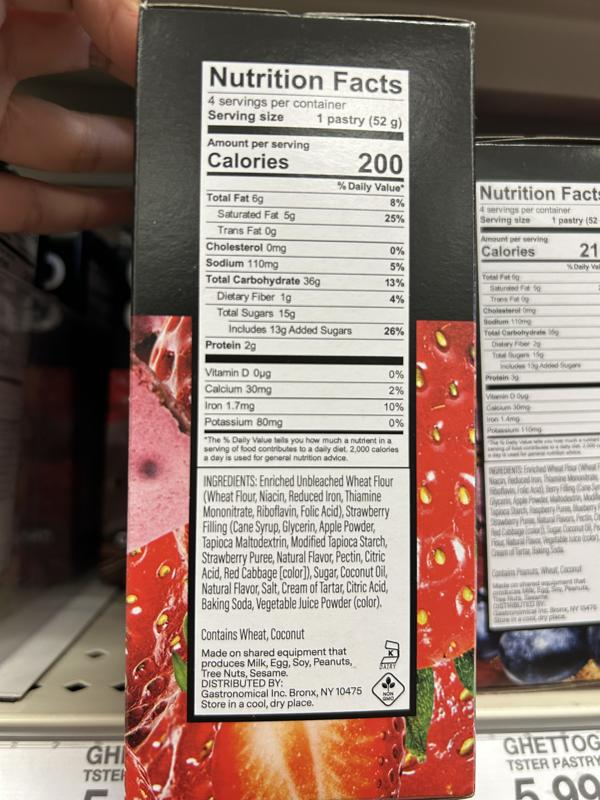ingredients: (200, 472, 395, 614)
